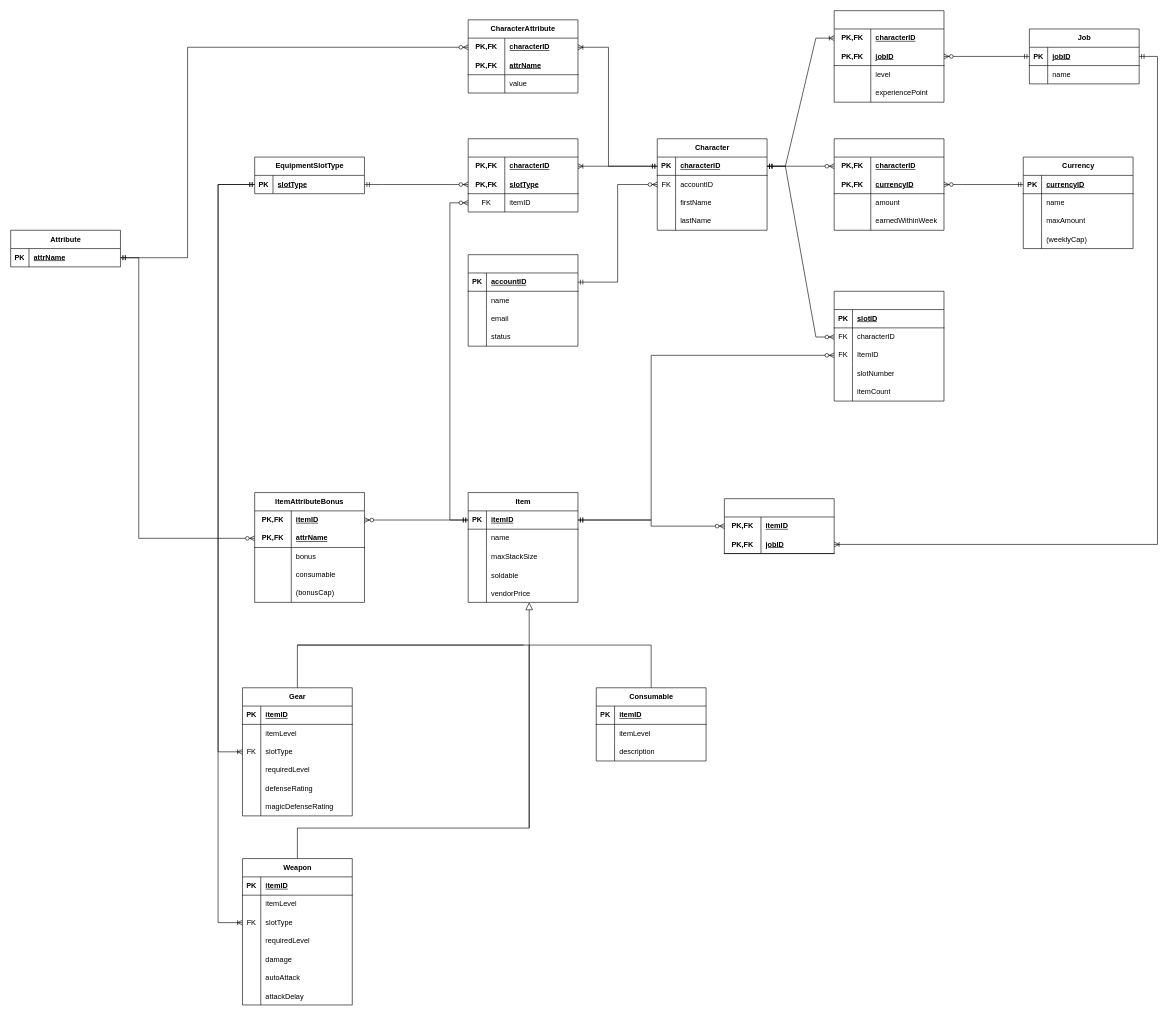
Some shapes in this 1174 by 1016 pixel diagram are drawn without their labels. The box of each missing label's shape, as (x1, y1, x2, y2) in pixels:
CharacterCurrency: (834, 138, 944, 230)
CharacterEquipment: (468, 138, 578, 212)
CharacterJob: (834, 10, 944, 102)
InventorySlot: (834, 291, 944, 401)
ItemEquipableJob: (724, 498, 834, 554)
Player: (468, 254, 578, 346)
